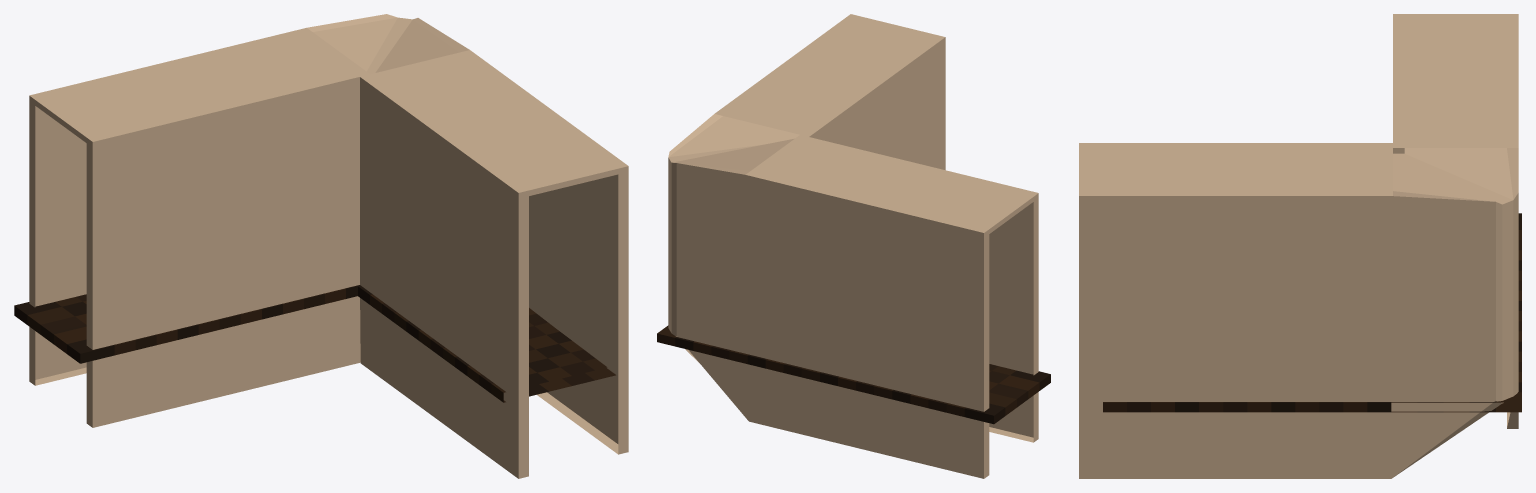
File: curvyTansition.fbx
The picture shows the model from 3 angles, left to right: view 1: azimuth 30°, elevation 25°; view 2: azimuth 150°, elevation 25°; view 3: azimuth 270°, elevation 25°; orthographic projection. The views are drawn at different scales.
Visible parts, largest first — view 1: CurvyTrans; view 2: CurvyTrans; view 3: CurvyTrans.
Part boxes in pixels (box(x1,y1,x2,y2)): CurvyTrans: box(14, 14, 628, 478); CurvyTrans: box(657, 14, 1050, 478); CurvyTrans: box(1079, 14, 1521, 478).
Size of the model in its own units: 295 by 206 by 292.
Materials: 1 (1 with a texture image).
